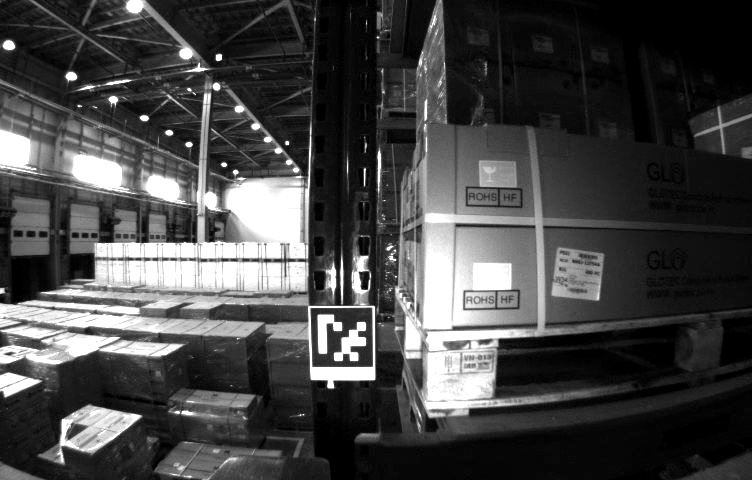True Barcode: (554, 246, 603, 306)
